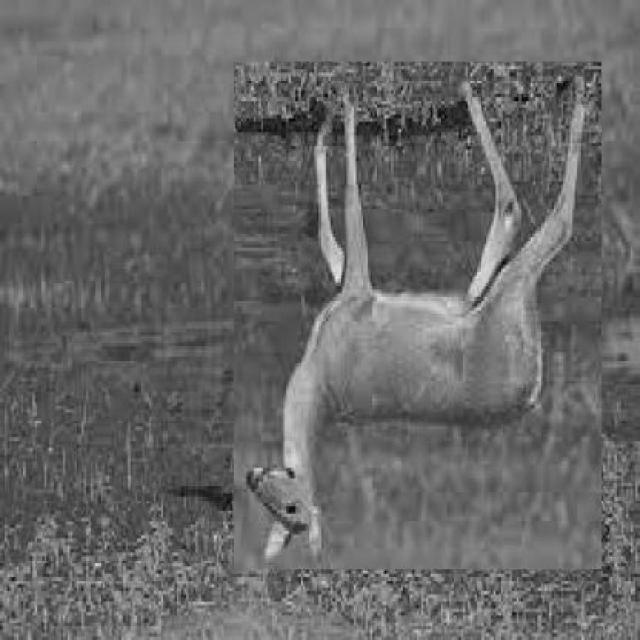Deer: (233, 62, 602, 570)
